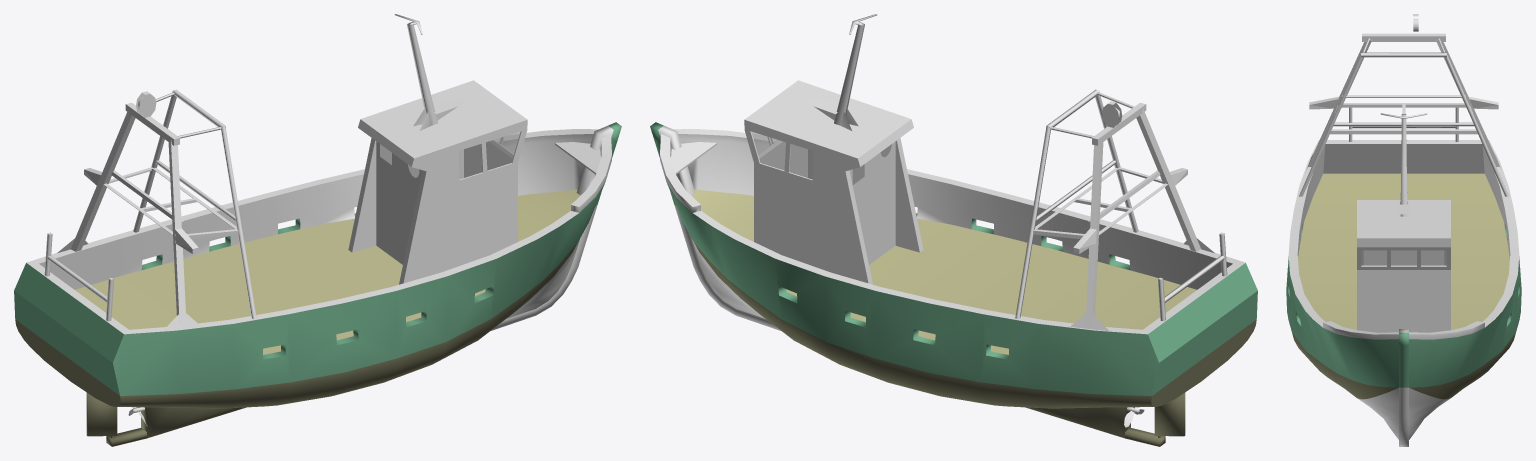
The model's file is josy.dae.
3 views of the same model, side by side, from view 1: azimuth 30°, elevation 25°; view 2: azimuth 150°, elevation 25°; view 3: azimuth 270°, elevation 25° (orthographic). The views are drawn at different scales.
Parts seen in each view (by area): view 1: coque, cabine, pont, poupe, portique, lisse, quille, portiqueCylindre, mat, safran, coqueSabords, rampe (+1 smaller); view 2: coque, cabine, pont, poupe, portique, lisse, quille, portiqueCylindre, mat, safran, coqueSabords, rampe (+1 smaller); view 3: pont, coque, cabine, poupe, portique, lisse, portiqueCylindre, quille, mat, potence, rampe.
Boxes of the visible parts, x1=… form: coque: x1=39, y1=134, x2=611, y2=408; cabine: x1=348, y1=80, x2=527, y2=284; pont: x1=75, y1=189, x2=580, y2=354; poupe: x1=14, y1=262, x2=128, y2=406; portique: x1=57, y1=103, x2=238, y2=330; lisse: x1=27, y1=129, x2=611, y2=334; quille: x1=106, y1=122, x2=621, y2=446; portiqueCylindre: x1=133, y1=89, x2=256, y2=319; mat: x1=407, y1=24, x2=466, y2=130; safran: x1=86, y1=392, x2=117, y2=436; coqueSabords: x1=141, y1=213, x2=493, y2=359; rampe: x1=44, y1=232, x2=113, y2=321; coque: x1=660, y1=134, x2=1232, y2=408; cabine: x1=744, y1=80, x2=923, y2=284; pont: x1=691, y1=189, x2=1196, y2=354; poupe: x1=1143, y1=262, x2=1257, y2=406; portique: x1=1033, y1=103, x2=1214, y2=330; lisse: x1=660, y1=129, x2=1244, y2=334; quille: x1=650, y1=122, x2=1165, y2=446; portiqueCylindre: x1=1015, y1=89, x2=1138, y2=319; mat: x1=805, y1=24, x2=864, y2=130; safran: x1=1154, y1=392, x2=1185, y2=436; coqueSabords: x1=778, y1=213, x2=1130, y2=359; rampe: x1=1158, y1=232, x2=1227, y2=321; pont: x1=1298, y1=173, x2=1509, y2=329; coque: x1=1286, y1=145, x2=1521, y2=439; cabine: x1=1357, y1=200, x2=1450, y2=332; poupe: x1=1319, y1=140, x2=1488, y2=173; portique: x1=1306, y1=33, x2=1501, y2=169; lisse: x1=1288, y1=140, x2=1519, y2=334; portiqueCylindre: x1=1299, y1=38, x2=1508, y2=196; quille: x1=1399, y1=329, x2=1408, y2=446; mat: x1=1396, y1=118, x2=1411, y2=216; potence: x1=1309, y1=96, x2=1498, y2=109; rampe: x1=1349, y1=107, x2=1458, y2=141.
Size of the model in its own units: 11.05 by 4.66 by 6.61.
